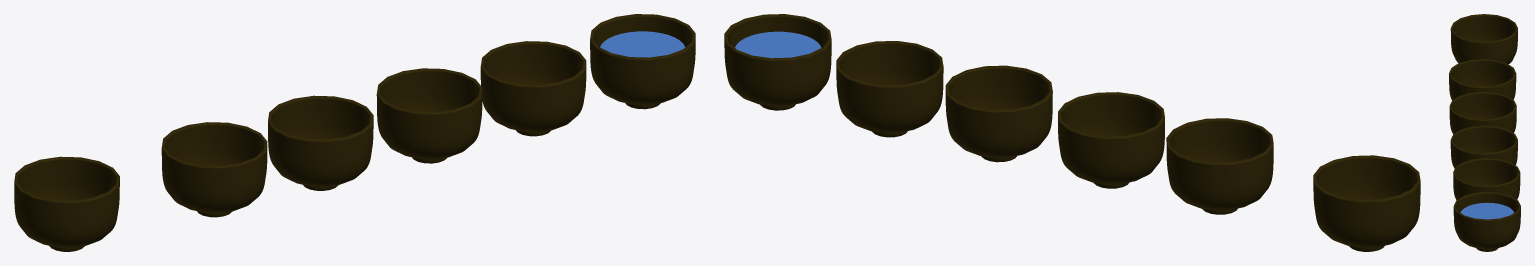
The model's file is chawan(1).fbx.
3 renders of one model, left to right at view 1: azimuth 30°, elevation 25°; view 2: azimuth 150°, elevation 25°; view 3: azimuth 270°, elevation 25°, orthographic. The views are drawn at different scales.
Visible parts, largest first — view 1: chawan1, chawan4, chawan3, chawan, chawan2, chawan5; view 2: chawan1, chawan, chawan5, chawan3, chawan4, chawan2; view 3: chawan5, chawan, chawan2, chawan4, chawan1, chawan3.
Boxes of the visible parts, x1,y1,x2,y2 form: chawan1: (161, 122, 267, 217); chawan4: (480, 41, 586, 136); chawan3: (376, 68, 482, 163); chawan: (14, 156, 119, 251); chawan2: (268, 95, 373, 190); chawan5: (590, 14, 695, 109); chawan1: (1166, 118, 1273, 214); chawan: (1313, 155, 1420, 251); chawan5: (724, 14, 831, 110); chawan3: (945, 65, 1052, 162); chawan4: (836, 41, 943, 137); chawan2: (1058, 92, 1164, 188); chawan5: (1453, 192, 1520, 251); chawan: (1450, 14, 1517, 64); chawan2: (1449, 91, 1516, 133); chawan4: (1453, 158, 1520, 200); chawan1: (1449, 59, 1516, 100); chawan3: (1450, 125, 1517, 168).
Bounding box in the file's own units: 5831 × 541 × 859.
